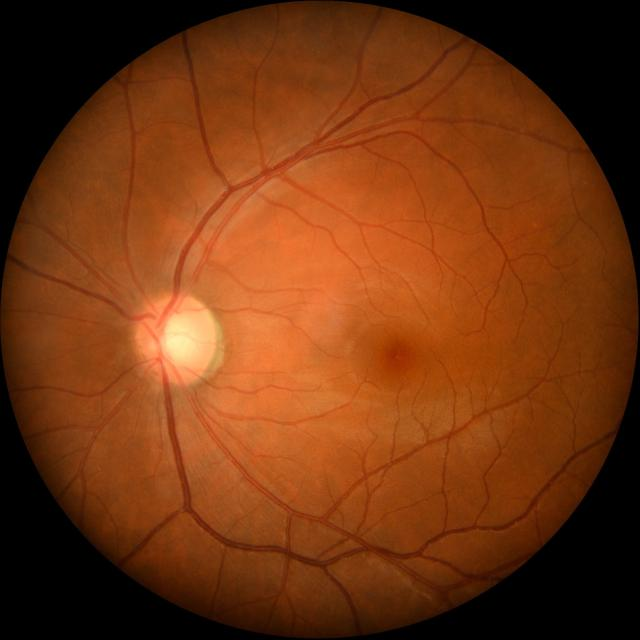OC: (156, 310, 200, 364)
OD: (137, 293, 216, 383)
